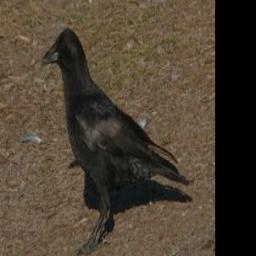Crow: (45, 25, 192, 256)
